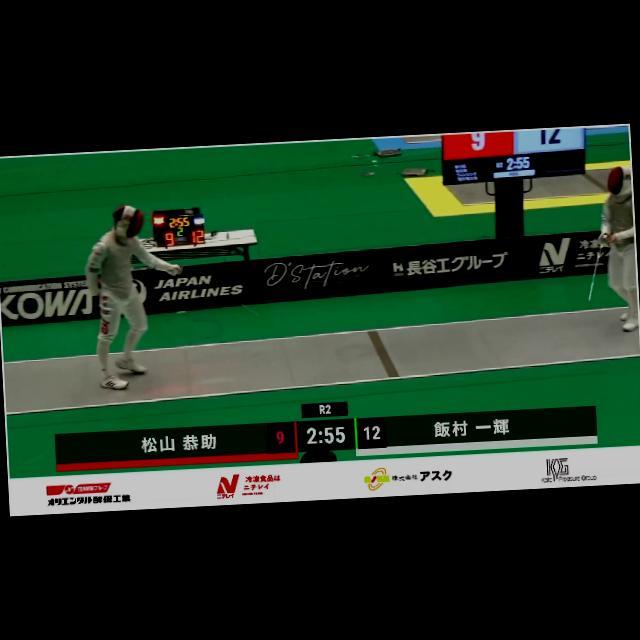blade: (174, 259, 267, 321), (584, 236, 612, 305)
